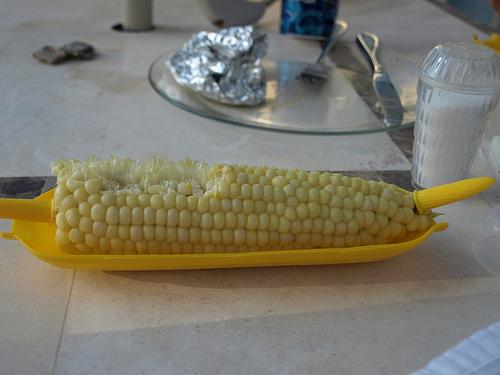corn: (51, 159, 429, 254)
